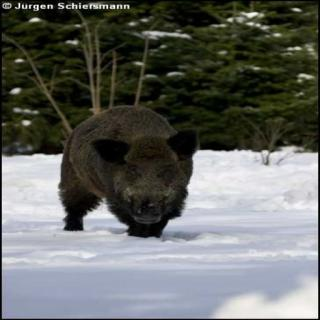Pig: (46, 85, 196, 245)
